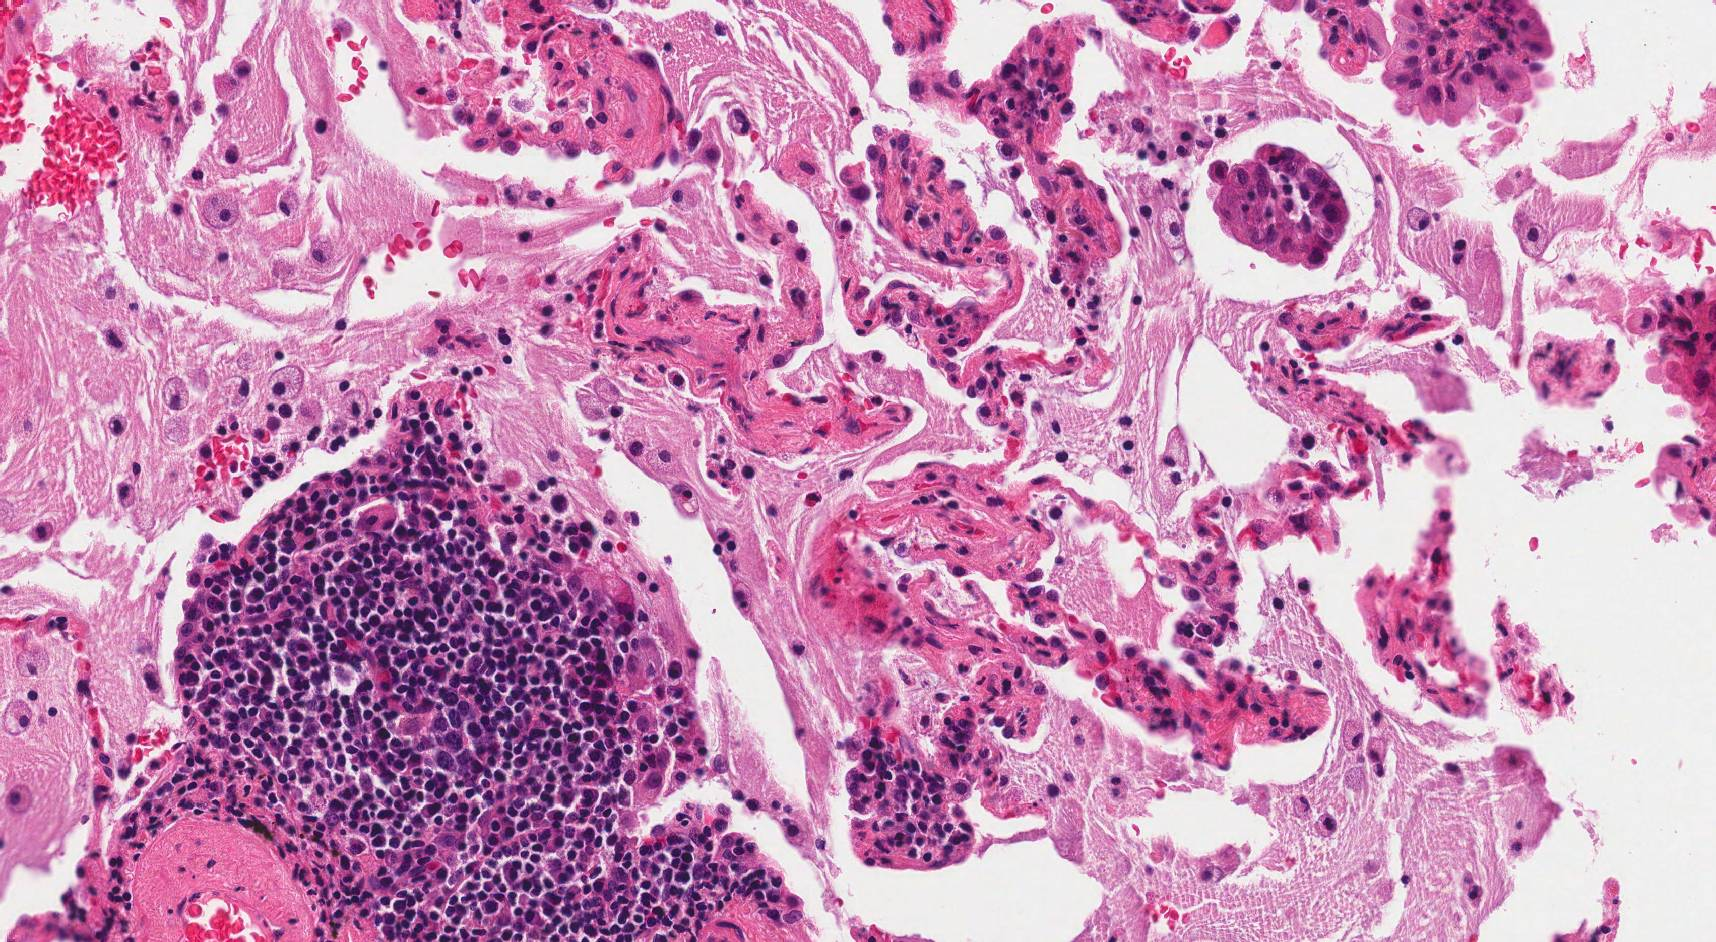stas: (1211, 139, 1349, 269)
